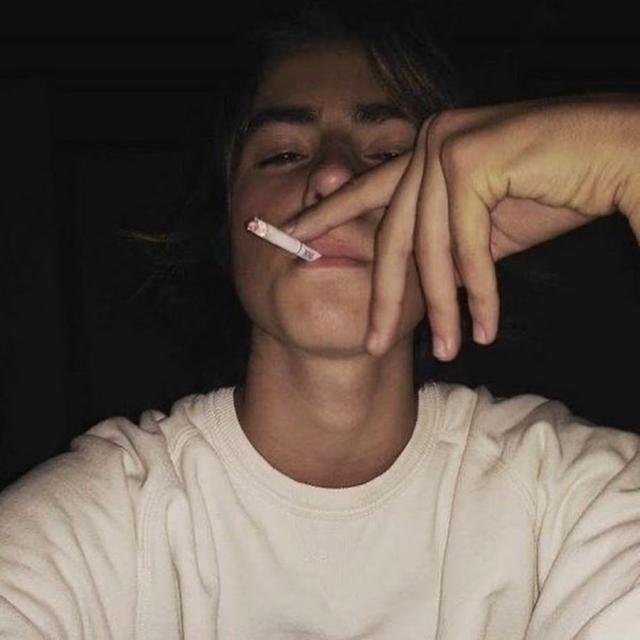cigarette: (243, 214, 329, 267)
